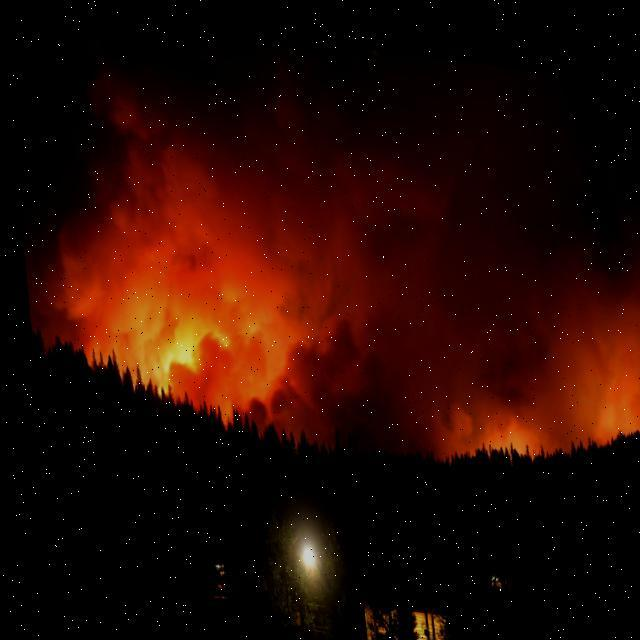Fire: (105, 268, 273, 405)
